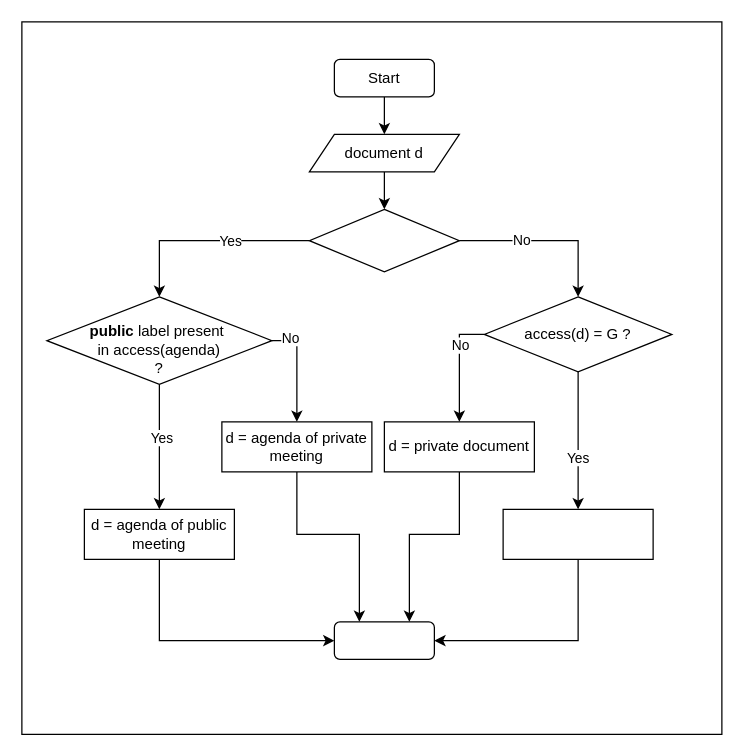
Some shapes in this 744 by 756 pixel diagram are drawn without their labels. Each missing label, with the box of its shape:
d = public document: (502, 508, 653, 559)
End: (333, 621, 434, 659)
Is d = agenda ?: (308, 208, 459, 272)
